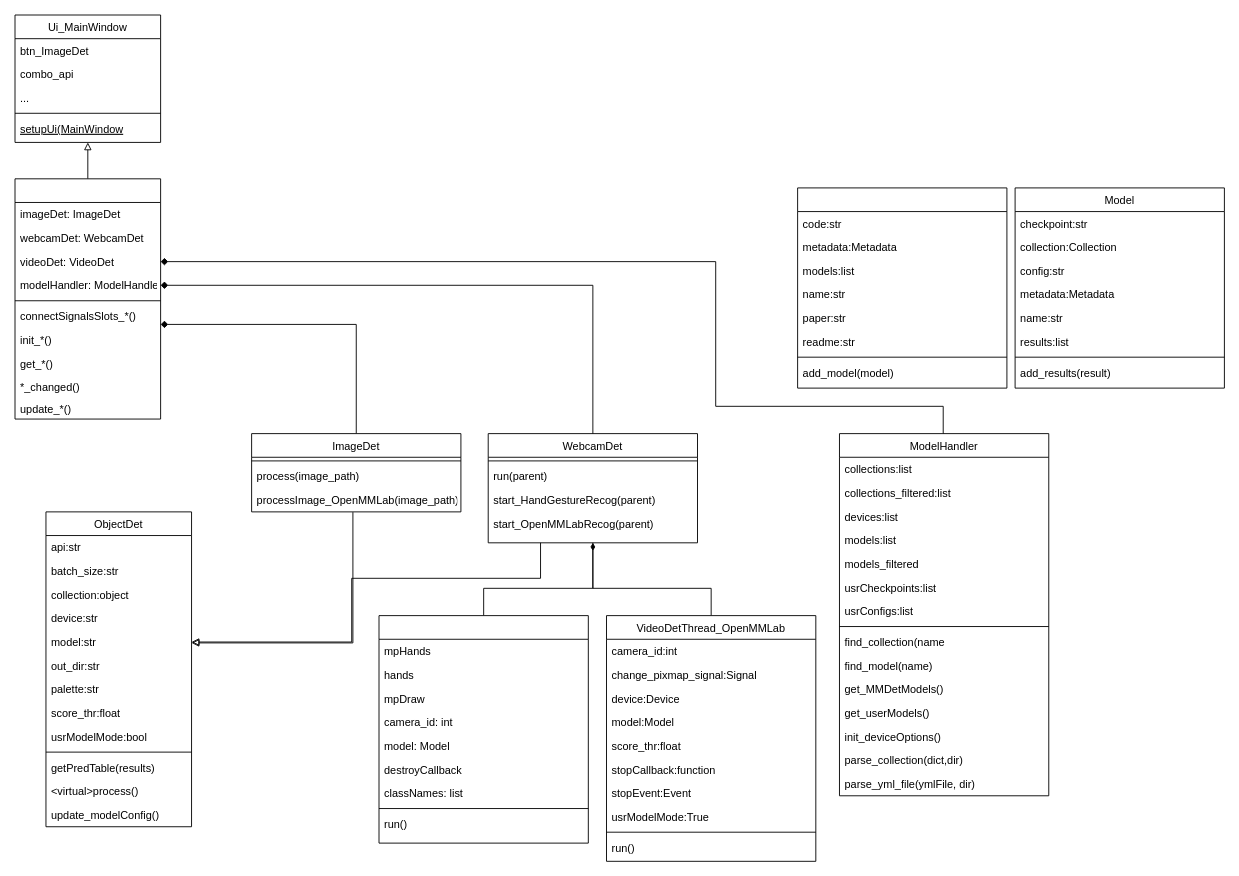
This 1239x876 diagram has some shape labels left out. Here are the shapes that lost their labels. From the top down, the box of each, then its label:
(14, 178, 161, 419): MainWindow
(797, 187, 1007, 388): Collection
(378, 615, 588, 843): VideoDetThread
